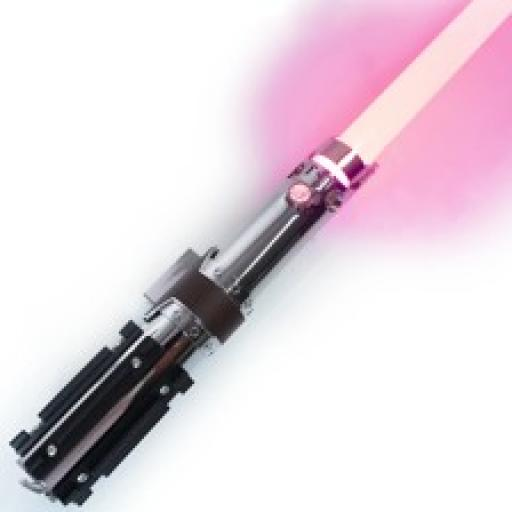lightsaber: (2, 0, 511, 507)
